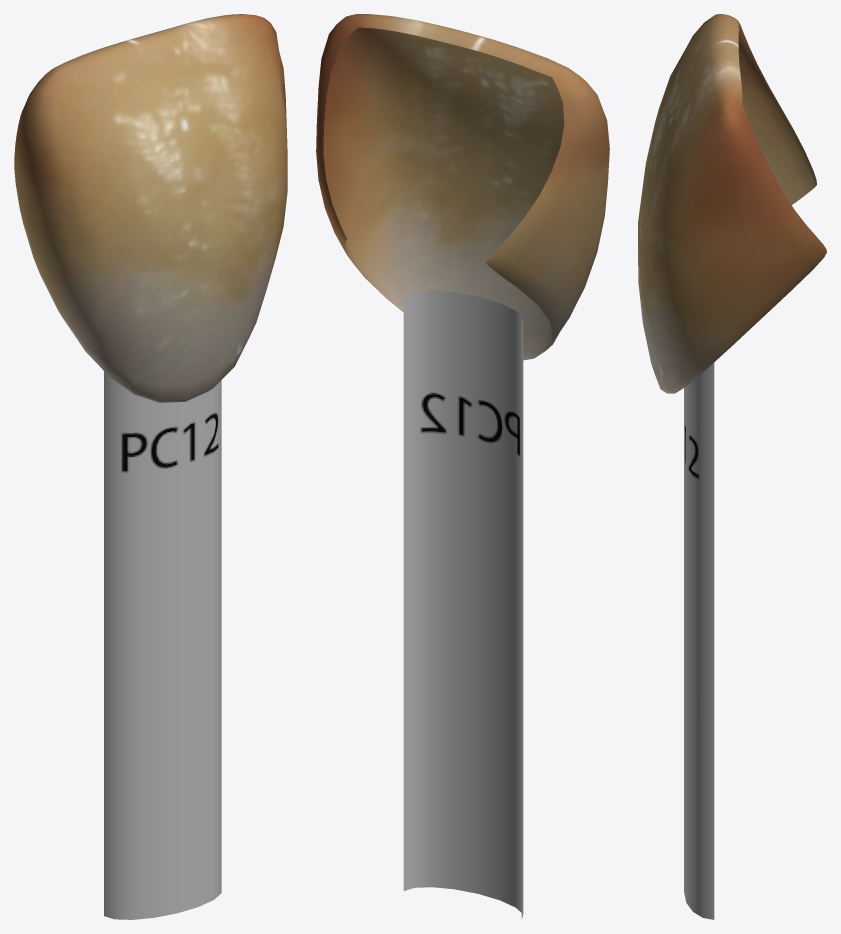
3 renders of one model, left to right at view 1: azimuth 30°, elevation 25°; view 2: azimuth 150°, elevation 25°; view 3: azimuth 270°, elevation 25°, orthographic. The views are drawn at different scales.
Parts seen in each view (by area): view 1: Tab; view 2: Tab; view 3: Tab.
Boxes of the visible parts, x1,y1,x2,y2 form: Tab: (14,14,287,919); Tab: (316,14,609,919); Tab: (638,14,826,919).
Size of the model in its own units: 0.00866 by 0.0274 by 0.00556.
Materials: 1 (1 with a texture image).
